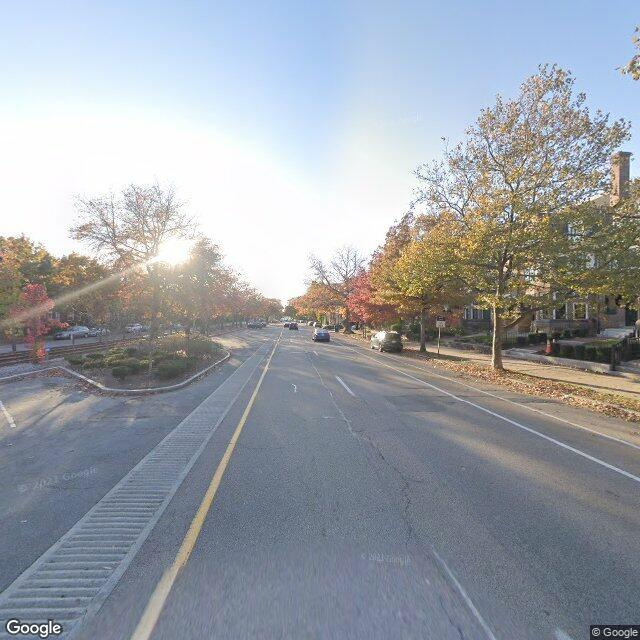pothole: (330, 387, 479, 638)
